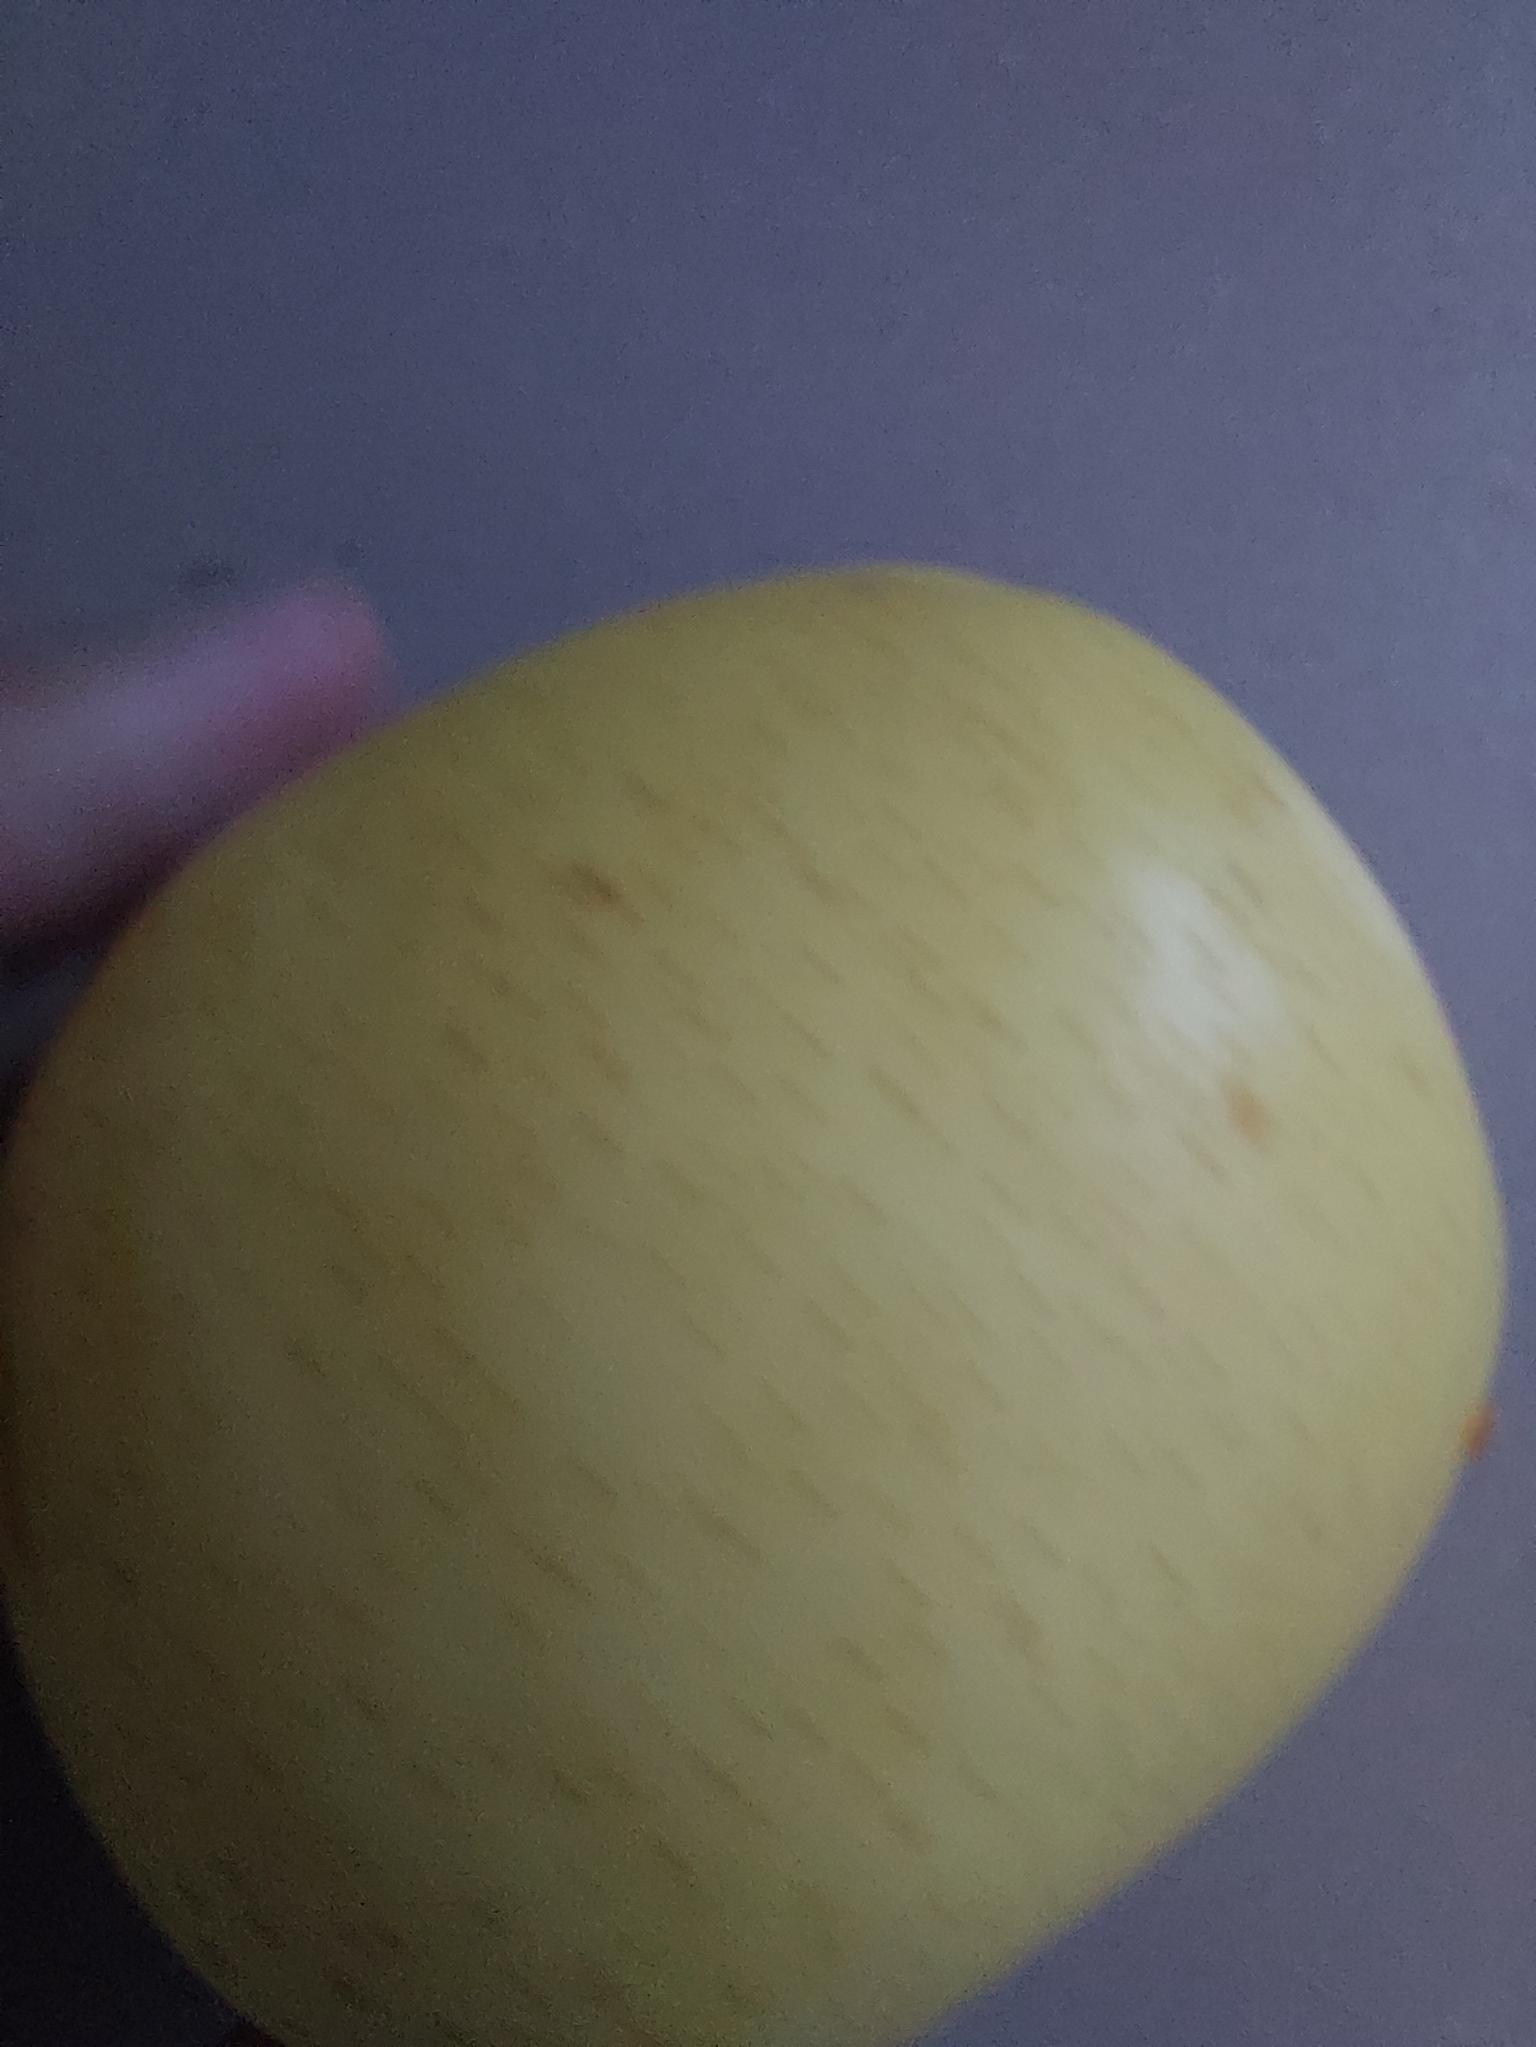Good Pear: (19, 545, 1504, 2047)
